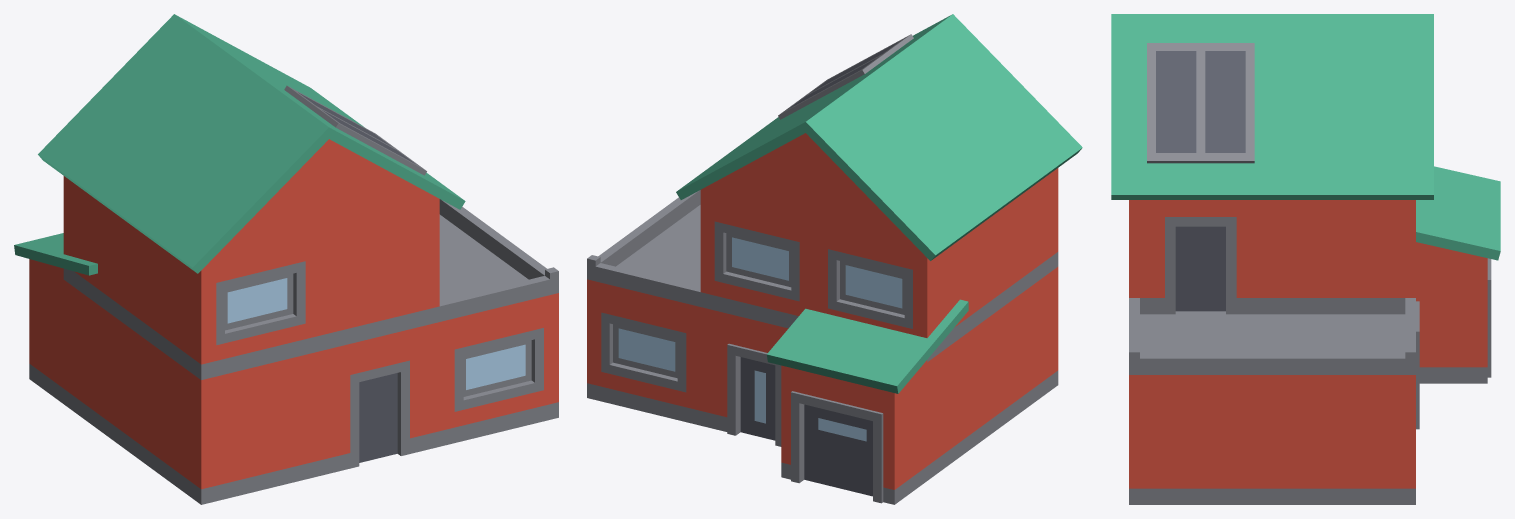
The model's file is house_type11.dae.
3 views of the same model, side by side, from view 1: azimuth 30°, elevation 25°; view 2: azimuth 150°, elevation 25°; view 3: azimuth 270°, elevation 25° (orthographic). The views are drawn at different scales.
Visible parts, largest first — view 1: house_type11; view 2: house_type11; view 3: house_type11.
Part boxes in pixels (box(x1,y1,x2,y2)): house_type11: box(14, 14, 558, 504); house_type11: box(587, 14, 1082, 504); house_type11: box(1111, 14, 1500, 504).
Size of the model in its own units: 1.26 by 1.14 by 1.09.
